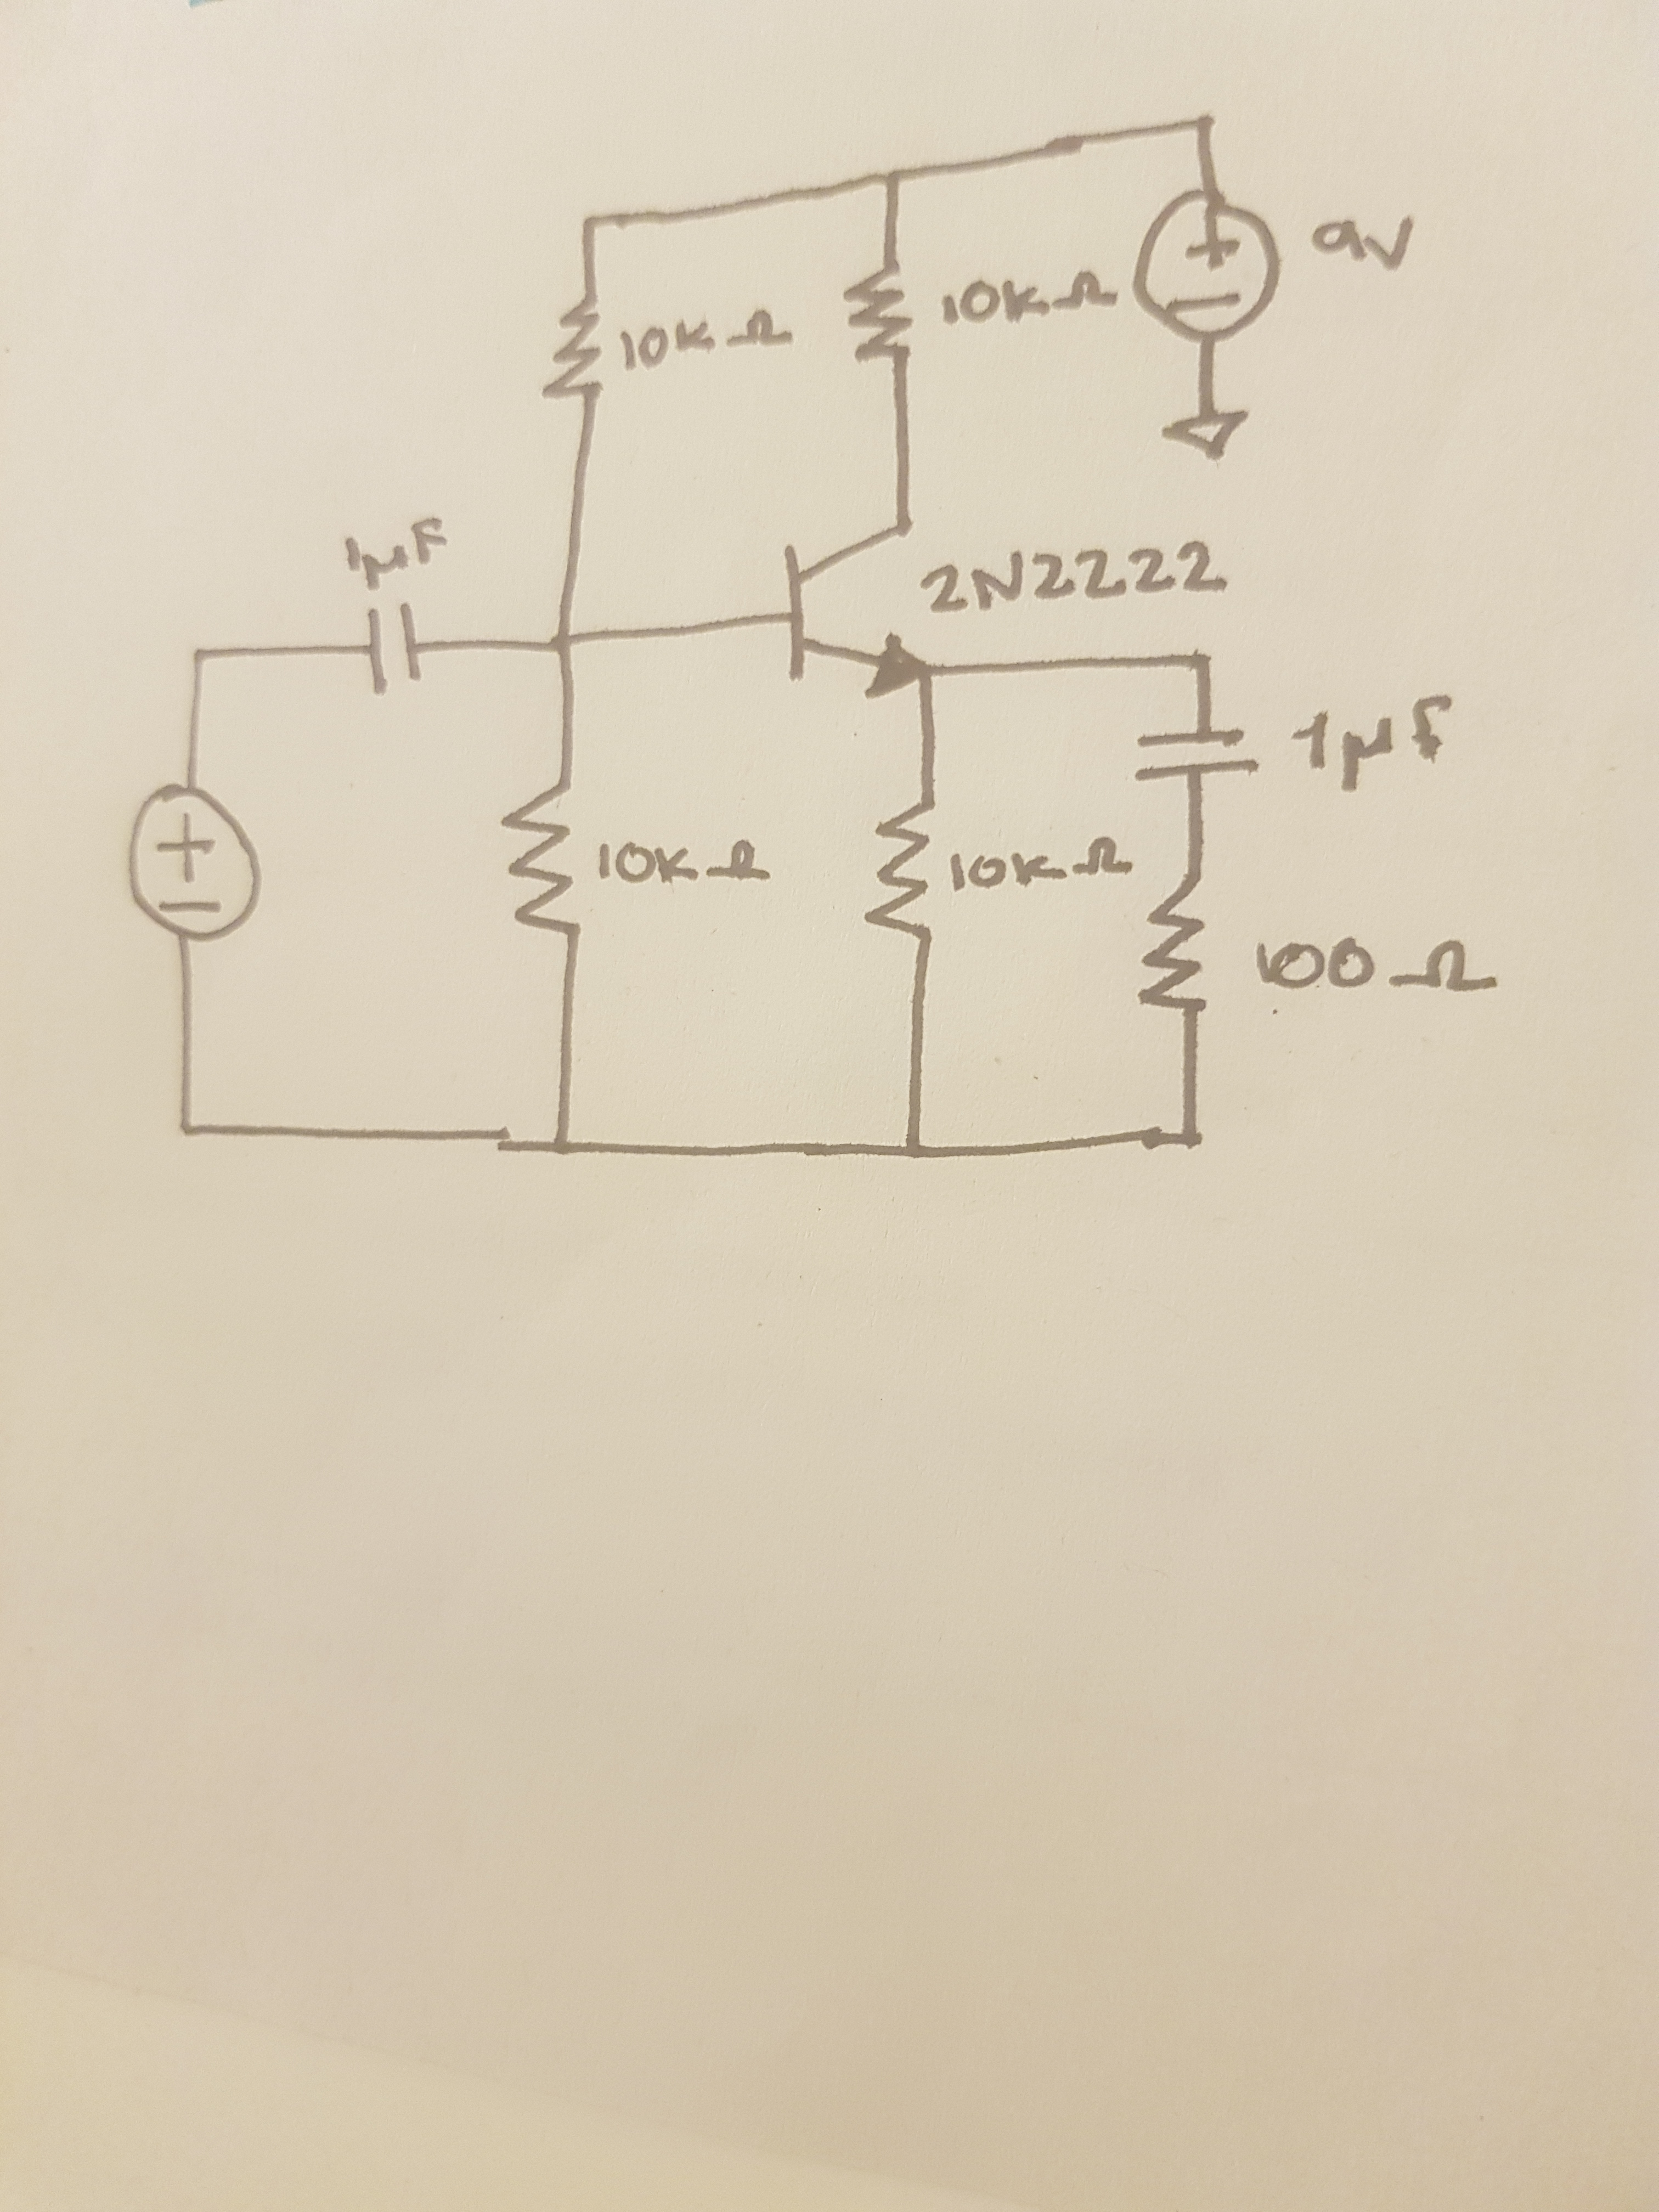capacitor.unpolarized: (1121, 725, 1262, 789), (361, 601, 427, 698)
gnd: (1157, 408, 1256, 462)
junction: (181, 636, 221, 678), (164, 1108, 207, 1146), (547, 629, 582, 669), (1176, 1122, 1208, 1158), (1190, 110, 1220, 141), (577, 211, 610, 239), (901, 1137, 931, 1167), (547, 1130, 575, 1162), (880, 162, 908, 193), (1188, 646, 1213, 681)
resistor: (500, 780, 586, 942), (857, 798, 939, 944), (1136, 874, 1213, 1015), (538, 294, 608, 404), (840, 263, 915, 362)
text: (920, 540, 1234, 615), (1288, 690, 1467, 796), (1249, 934, 1502, 996), (594, 831, 781, 897), (617, 307, 803, 369), (941, 833, 1138, 890), (936, 265, 1122, 322), (336, 514, 455, 592), (1307, 207, 1422, 282)
transistor: (772, 510, 950, 702)
voltage.dc: (1129, 188, 1283, 345), (124, 782, 265, 948)
